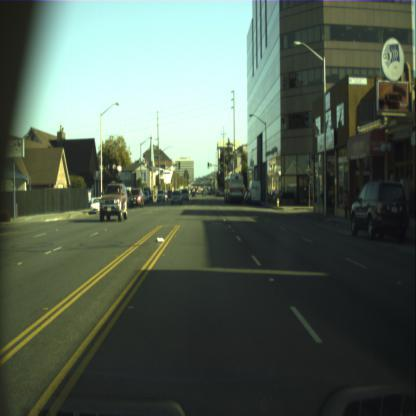Green: (207, 162, 209, 167)
